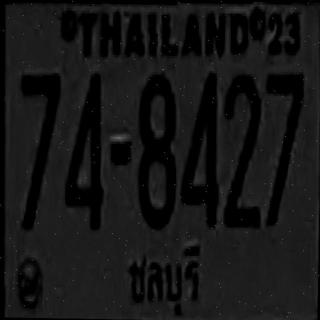N02: (222, 74, 260, 225)
N04: (63, 71, 104, 228), (179, 70, 218, 225)
N07: (17, 71, 59, 228), (263, 72, 302, 224), (18, 71, 59, 177)
N08: (137, 73, 176, 228)
P13: (122, 235, 208, 320)
